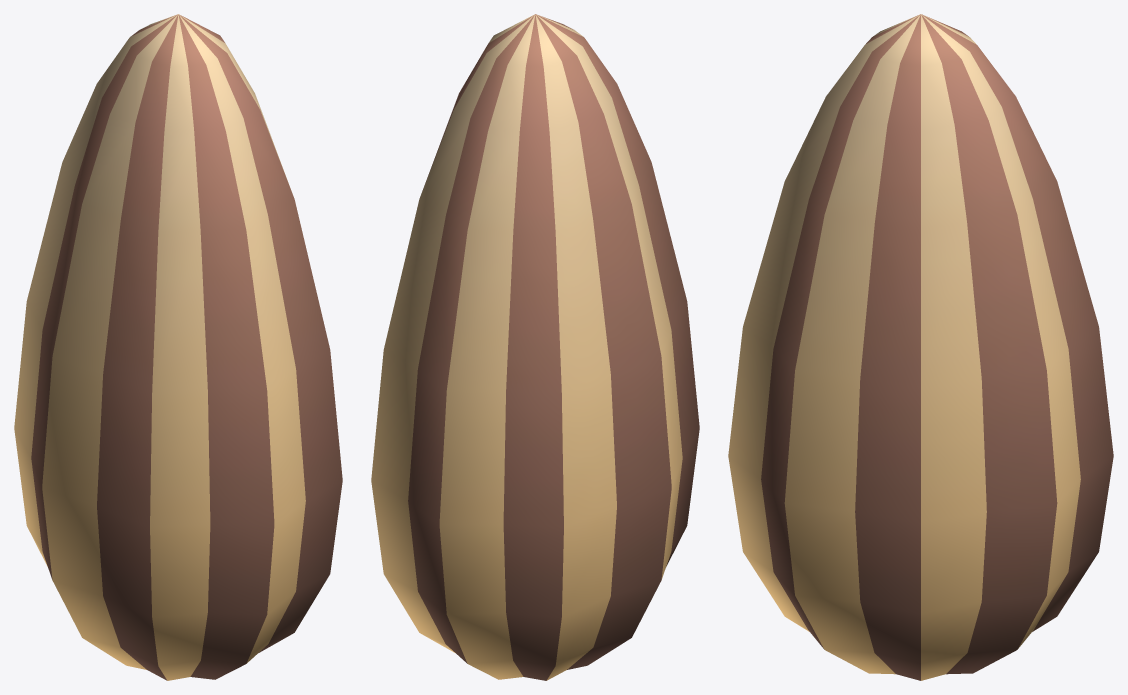
File: hathuongduong.fbx
3 views of the same model, side by side, from view 1: azimuth 30°, elevation 25°; view 2: azimuth 150°, elevation 25°; view 3: azimuth 270°, elevation 25° (orthographic).
Visible parts, largest first — view 1: hathuongduong; view 2: hathuongduong; view 3: hathuongduong.
Part boxes in pixels (x1,y1,x2,y2): hathuongduong: [14, 14, 342, 680]; hathuongduong: [371, 14, 699, 680]; hathuongduong: [728, 14, 1113, 680].
Bounding box in the file's own units: 49.16 × 113 × 59.96.
Materials: 1 (1 with a texture image).
